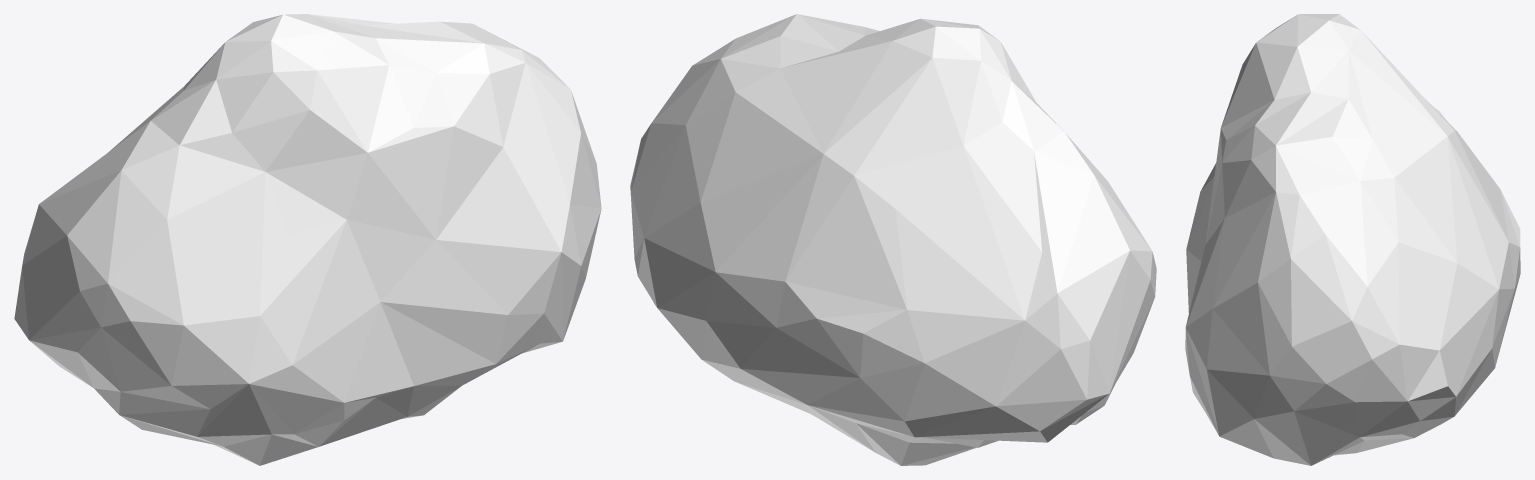
Rendered from Cloud_01.fbx.
3 views of the same model, side by side, from view 1: azimuth 30°, elevation 25°; view 2: azimuth 150°, elevation 25°; view 3: azimuth 270°, elevation 25° (orthographic). The views are drawn at different scales.
Parts seen in each view (by area): view 1: Cloud_01; view 2: Cloud_01; view 3: Cloud_01.
Part boxes in pixels (left/top/right/bottom): Cloud_01: left=14, top=14, right=601, bottom=465; Cloud_01: left=630, top=14, right=1156, bottom=465; Cloud_01: left=1185, top=14, right=1520, bottom=465.
Size of the model in its own units: 3.26 by 2.67 by 1.97.
